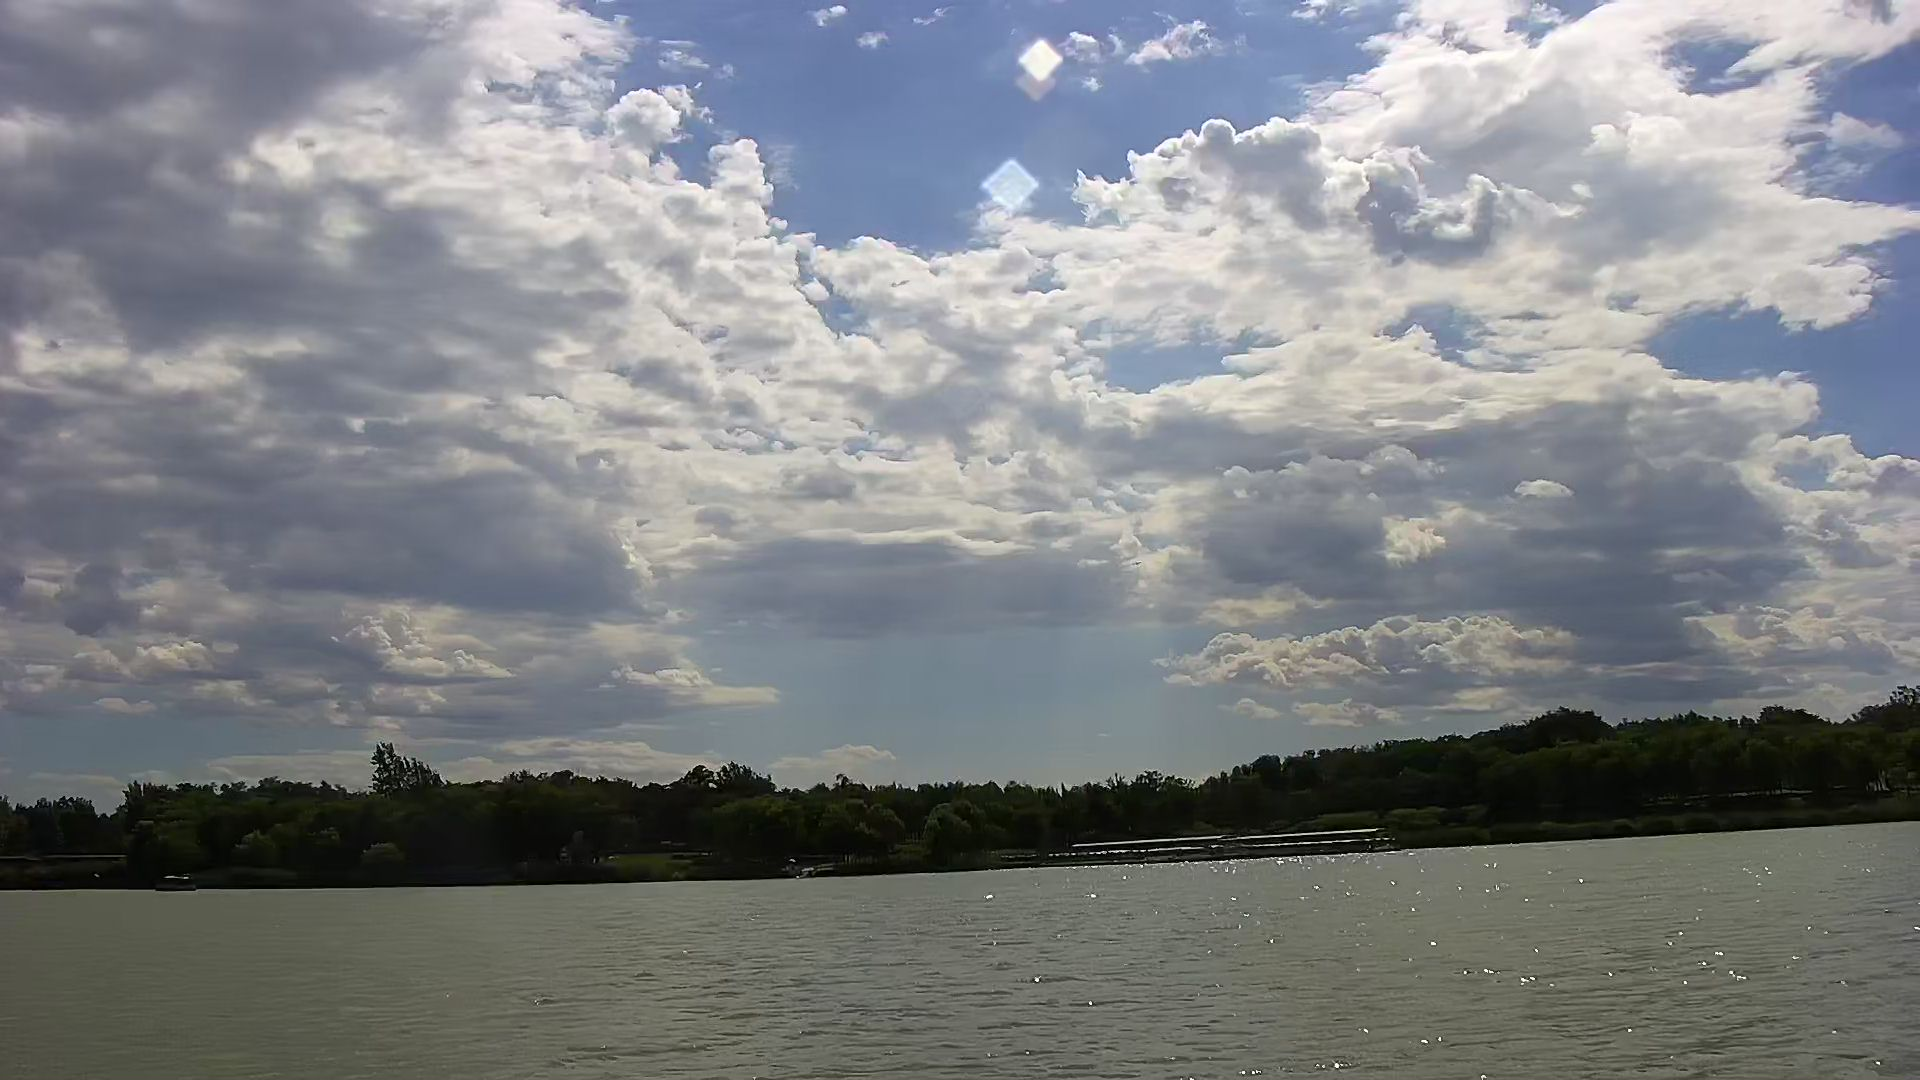harbor: (1050, 824, 1400, 865)
